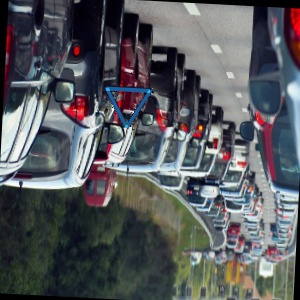triangle: (102, 84, 154, 131)
